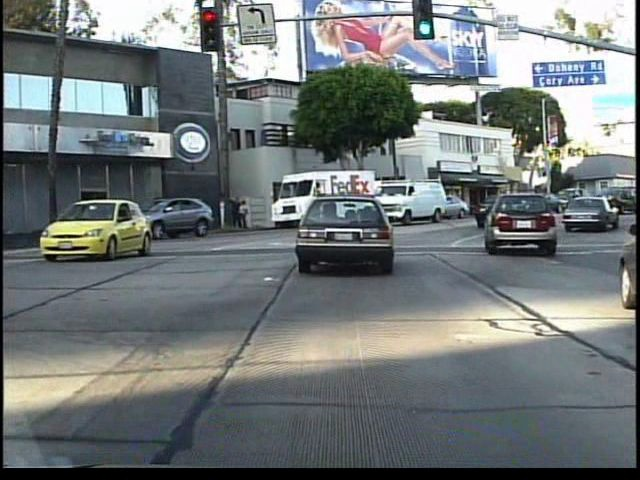person: (239, 200, 253, 233), (230, 194, 242, 232)
